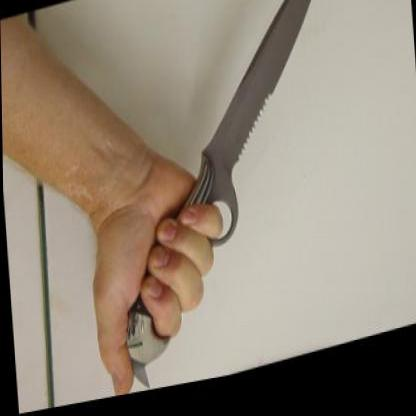knife: (122, 0, 350, 310)
